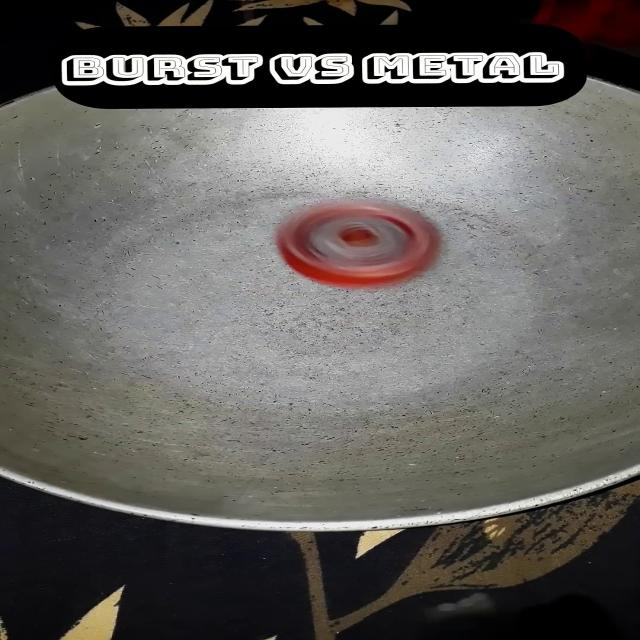beyblade: (270, 193, 458, 295)
